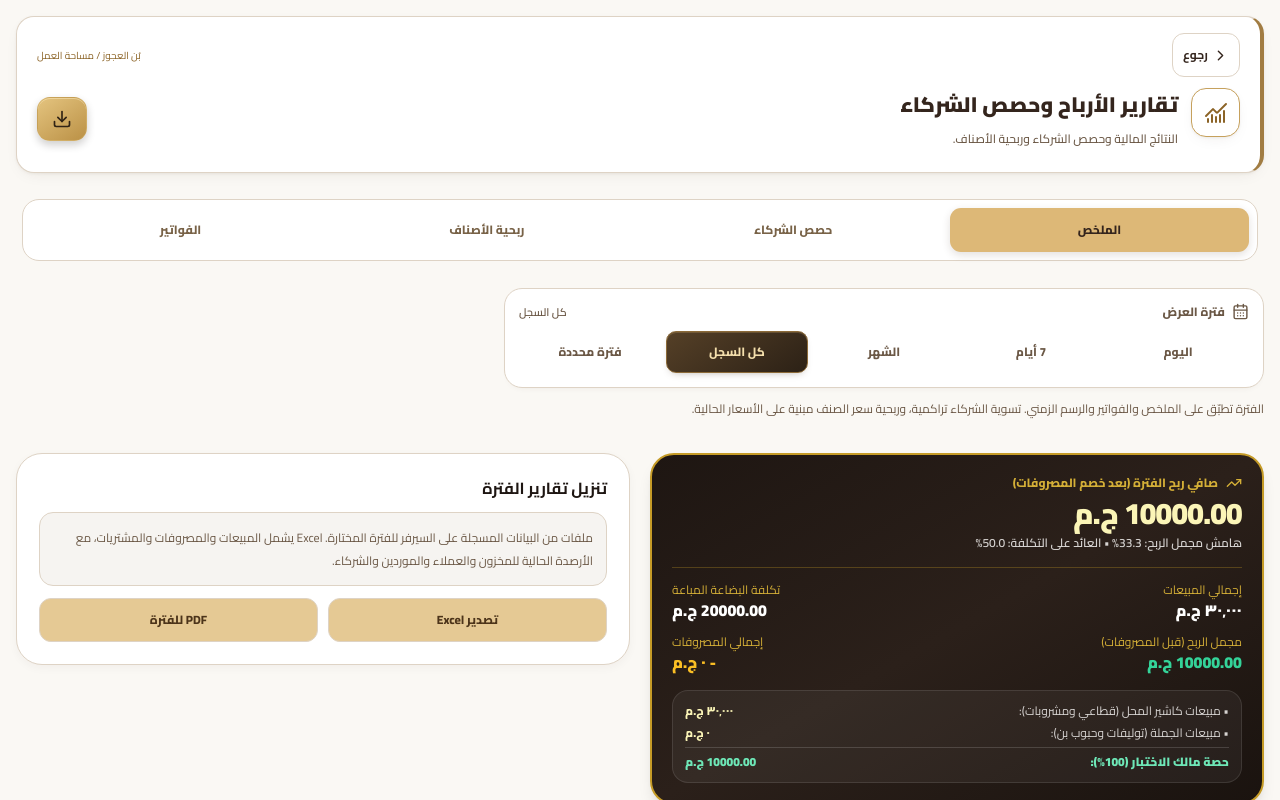
Test: keeps report totals over the complete history when its invoice list is paginated and searched
This screenshot has width=1280, height=800.
Expected: the text named "صافي ربح الفترة" reads "10000.00 ج.م", [1073, 485, 1242, 541]
Step 1. Click the button "الفواتير" → (181, 230), box [31, 208, 330, 252]
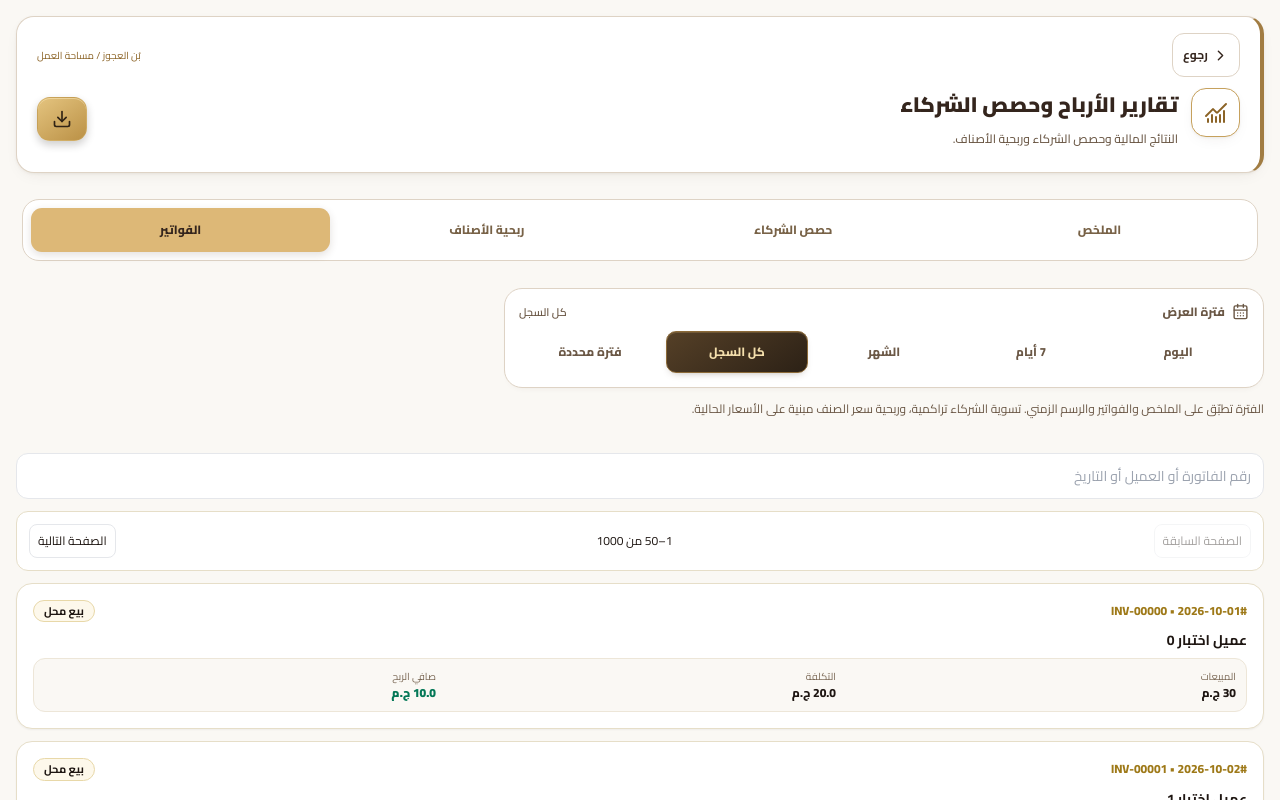
Result: the text "#INV-00000 • 2026-10-01" is shown 50 times
Step 2. Type "INV-00999" into the field named "بحث في كل فواتير التقرير" → (640, 476), box [16, 453, 1264, 499]
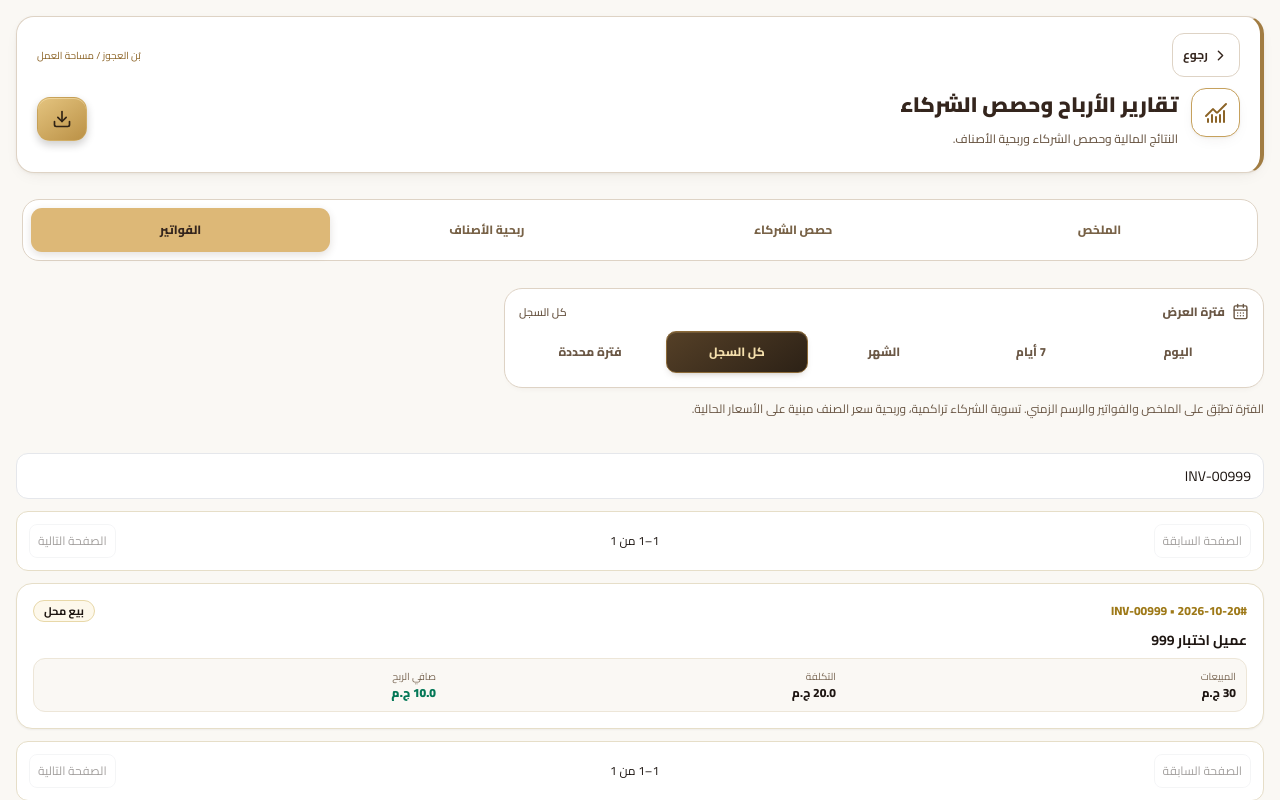
Result: the text "#INV-00999 • 2026-10-20" is shown once at [1111, 603, 1247, 619]
Step 3. Click the button "الملخص" → (1099, 230), box [950, 208, 1249, 252]
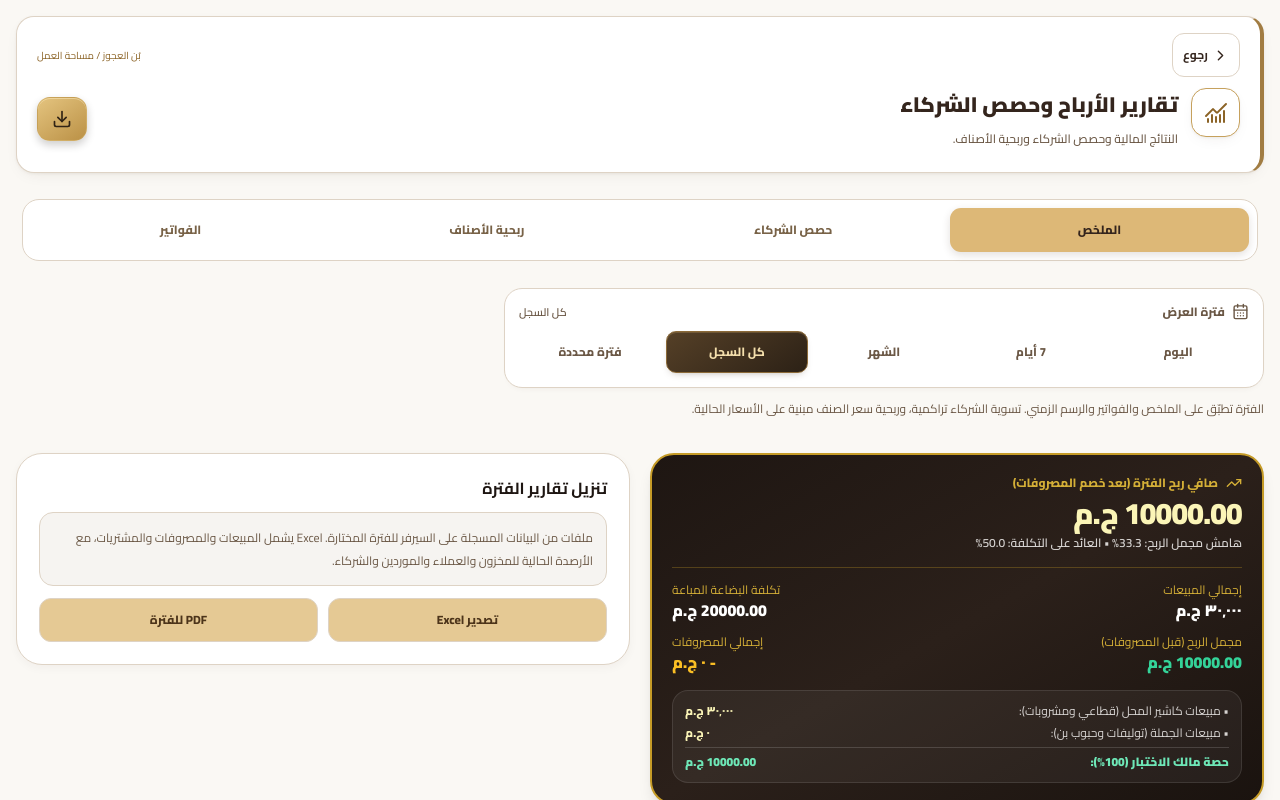
Result: the text named "صافي ربح الفترة" reads "10000.00 ج.م" at [1073, 485, 1242, 541]
